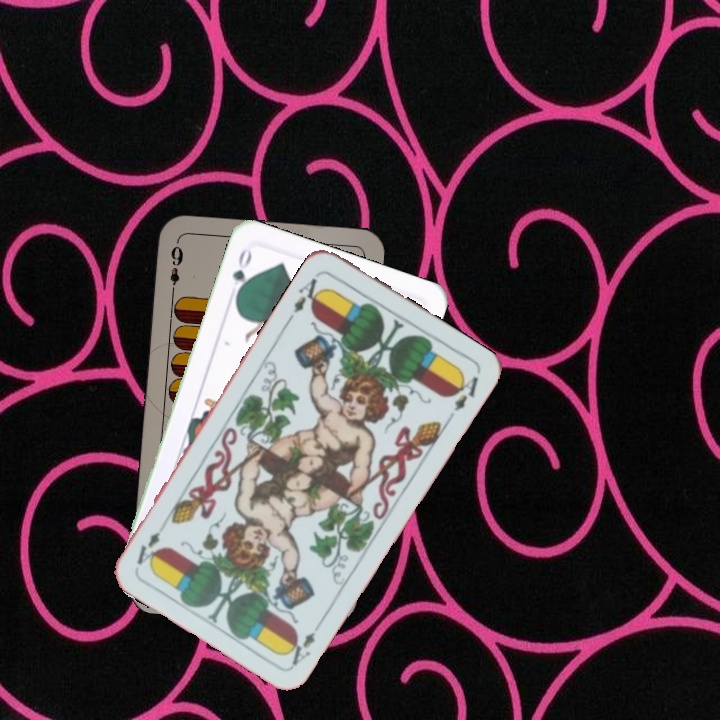E9: (166, 242, 186, 298)
EA: (281, 616, 325, 669), (289, 269, 326, 316)
GO: (228, 245, 255, 303)
